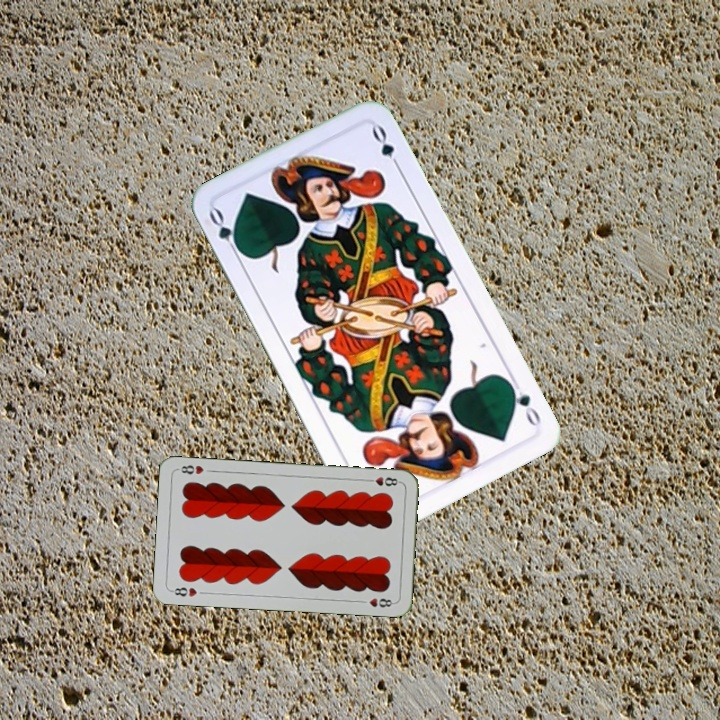GO: (204, 204, 246, 260), (504, 375, 544, 429)
H8: (362, 473, 403, 489), (167, 583, 199, 599)
